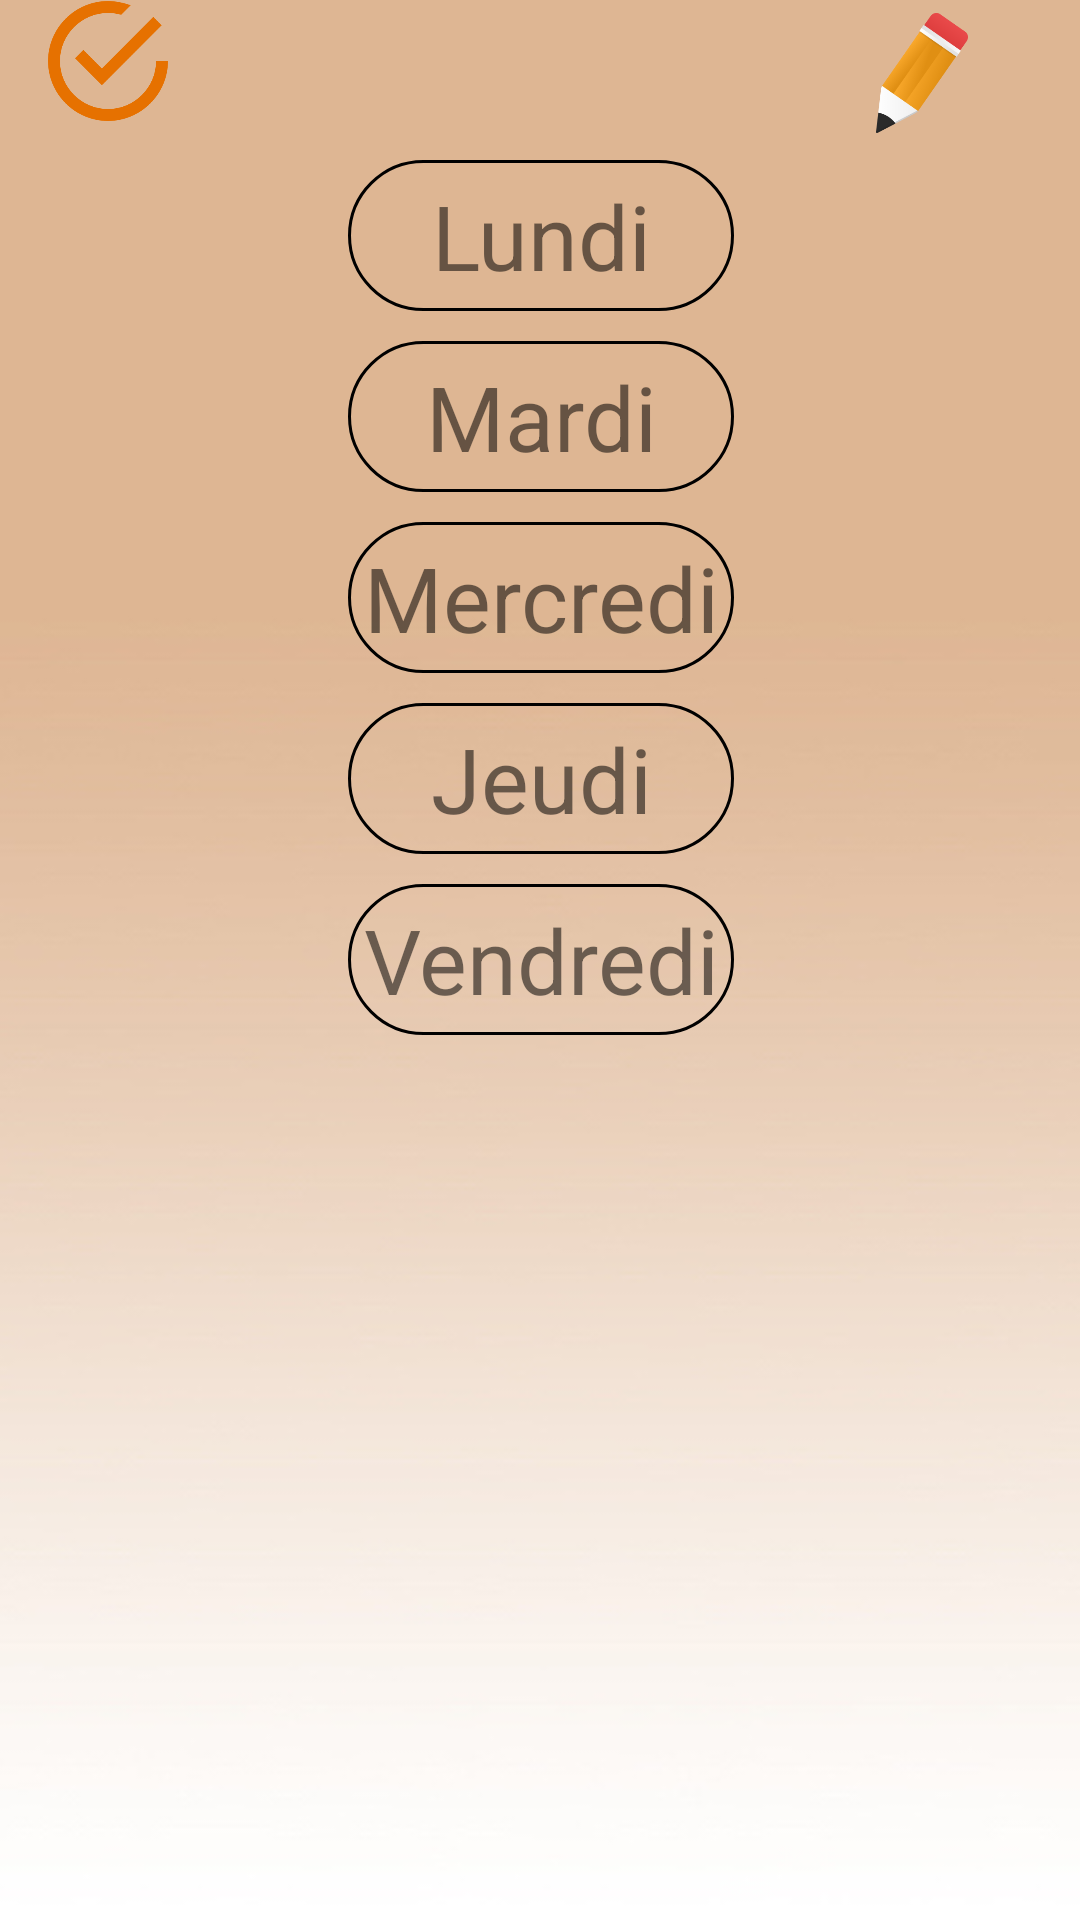

Icon bounding boxes for this 1080x1920 phone screenshot, format (x1, y1, x2, y2):
validate timetable: (48, 1, 168, 121)
